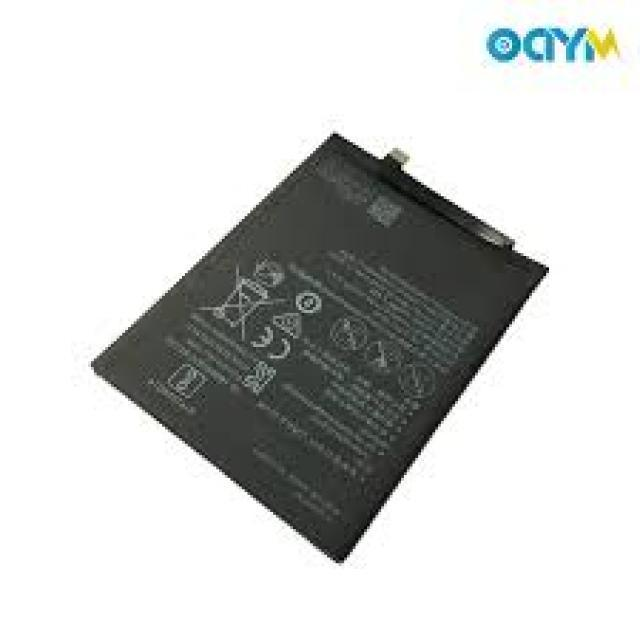battery: (91, 125, 554, 564)
